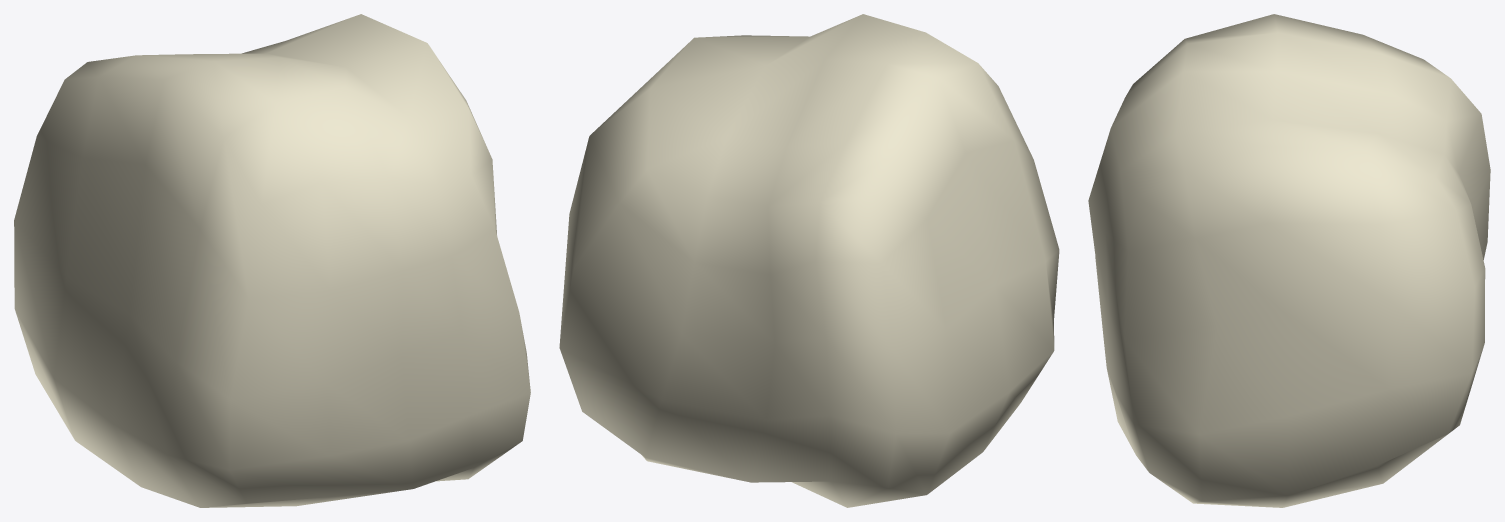
The model's file is ricecake4.fbx.
The picture shows the model from 3 angles, left to right: view 1: azimuth 30°, elevation 25°; view 2: azimuth 150°, elevation 25°; view 3: azimuth 270°, elevation 25°; orthographic projection. The views are drawn at different scales.
Parts seen in each view (by area): view 1: 떡4; view 2: 떡4; view 3: 떡4.
Boxes of the visible parts, left/top/right/bottom form: 떡4: left=14, top=14, right=530, bottom=507; 떡4: left=559, top=14, right=1059, bottom=507; 떡4: left=1088, top=14, right=1490, bottom=507.
Size of the model in its own units: 131 by 137 by 131.
